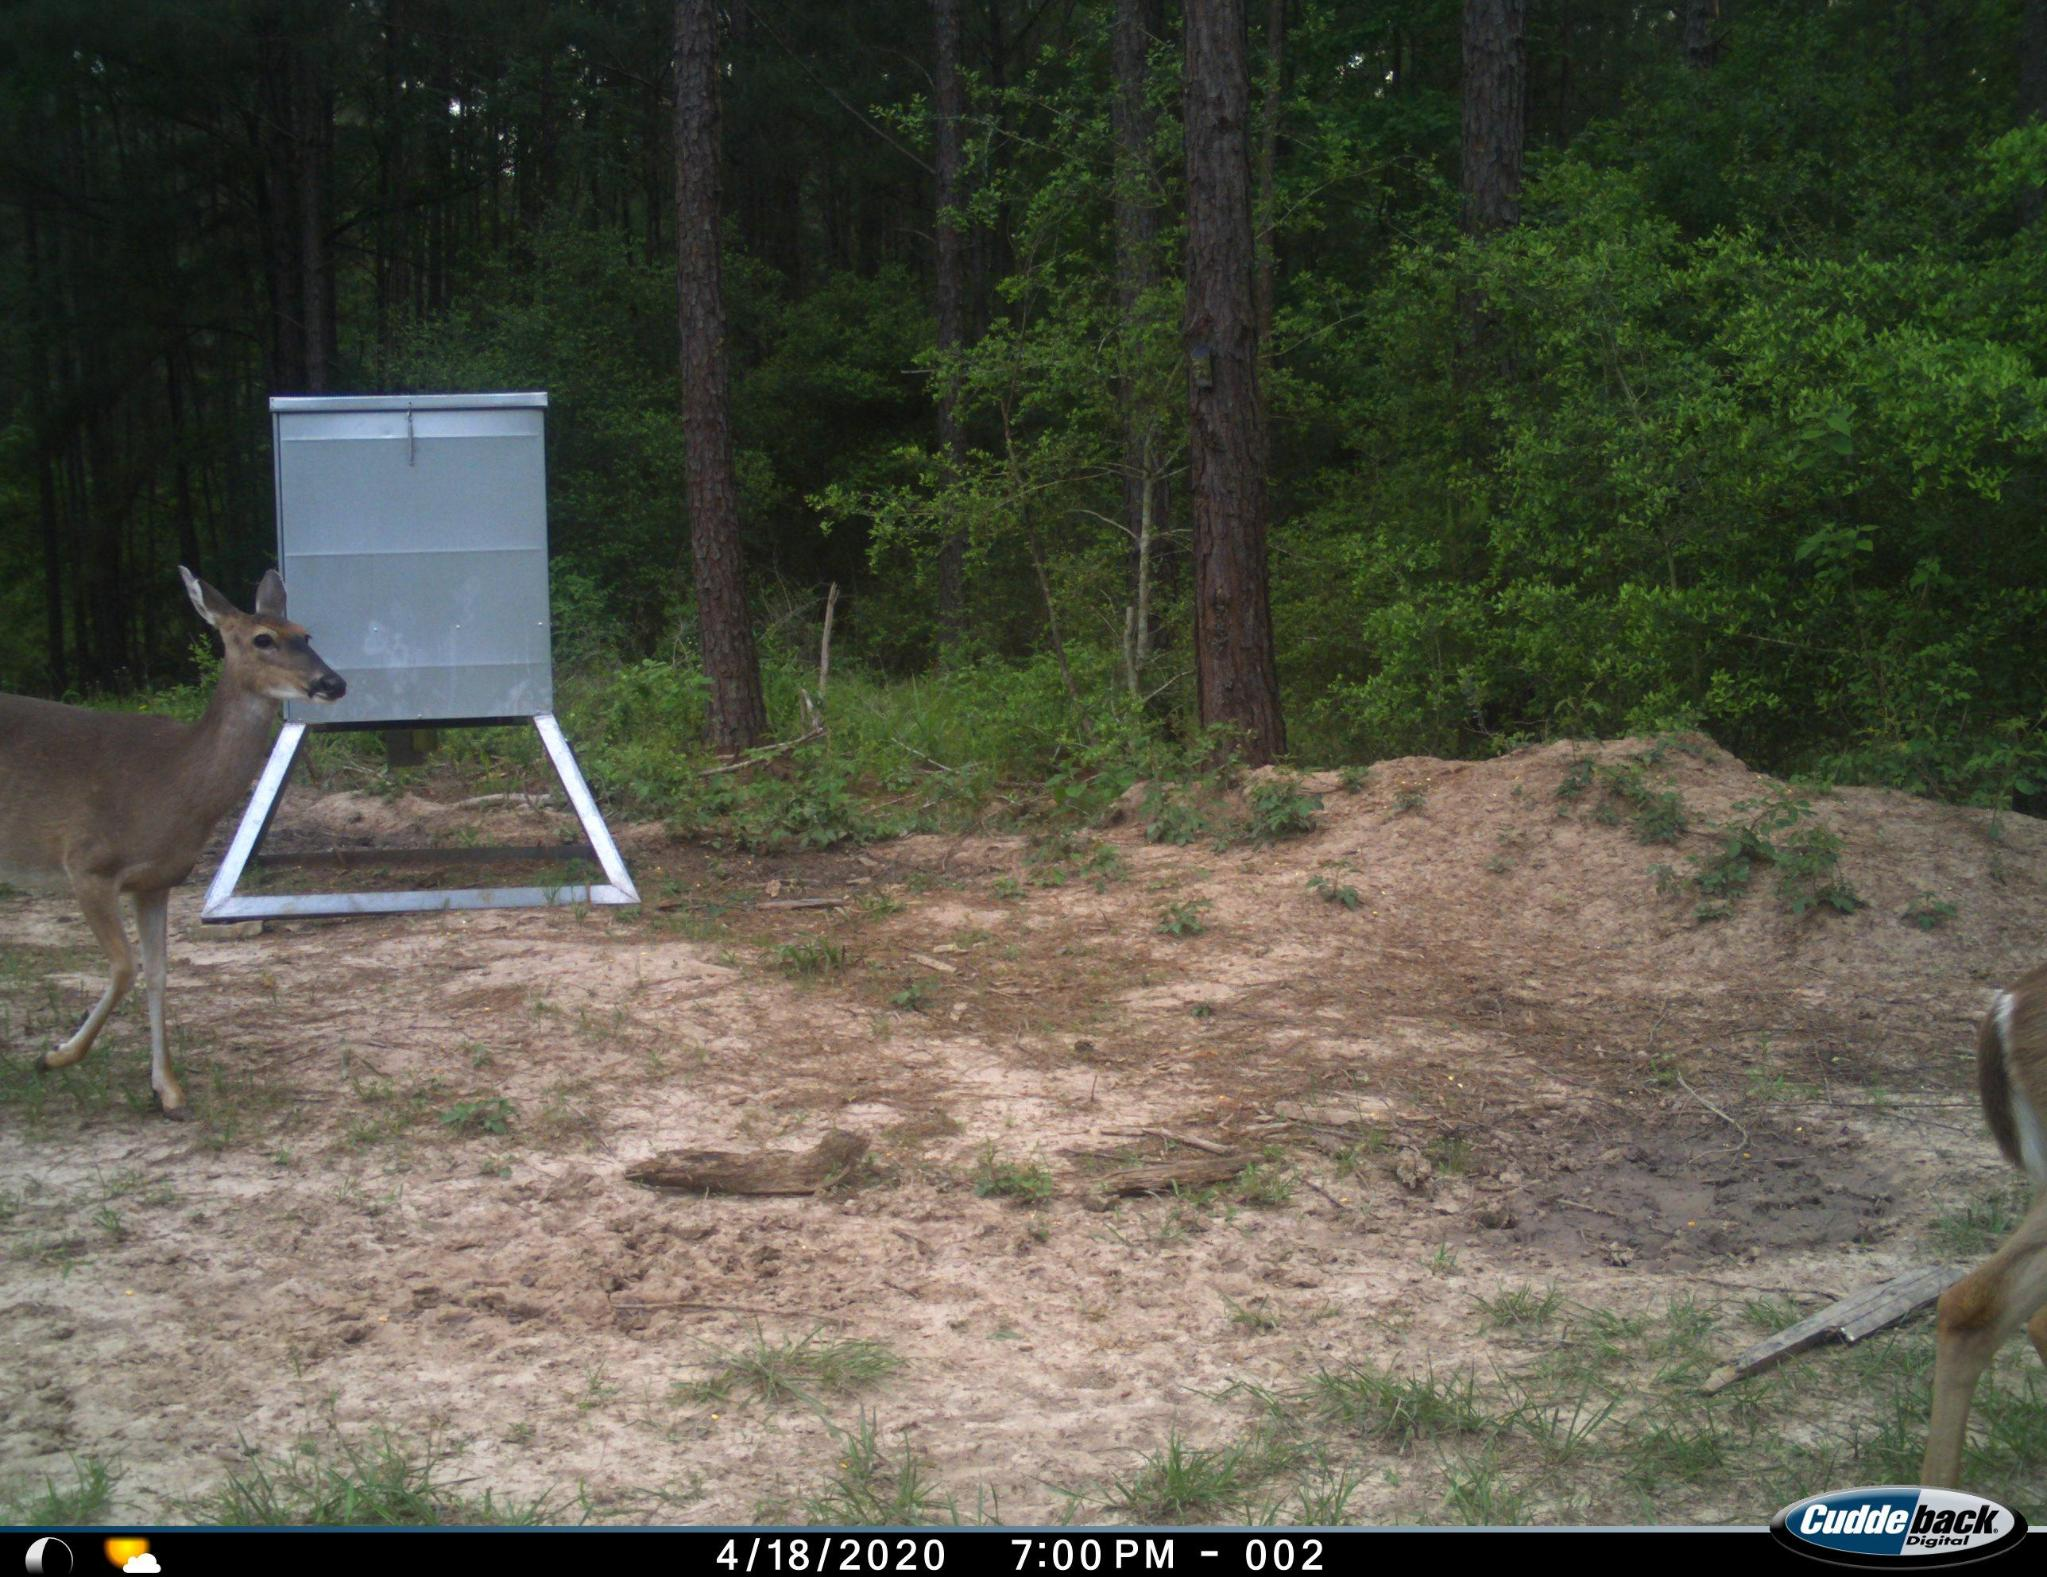Deer: (7, 537, 349, 1125), (1929, 961, 2047, 1479)
